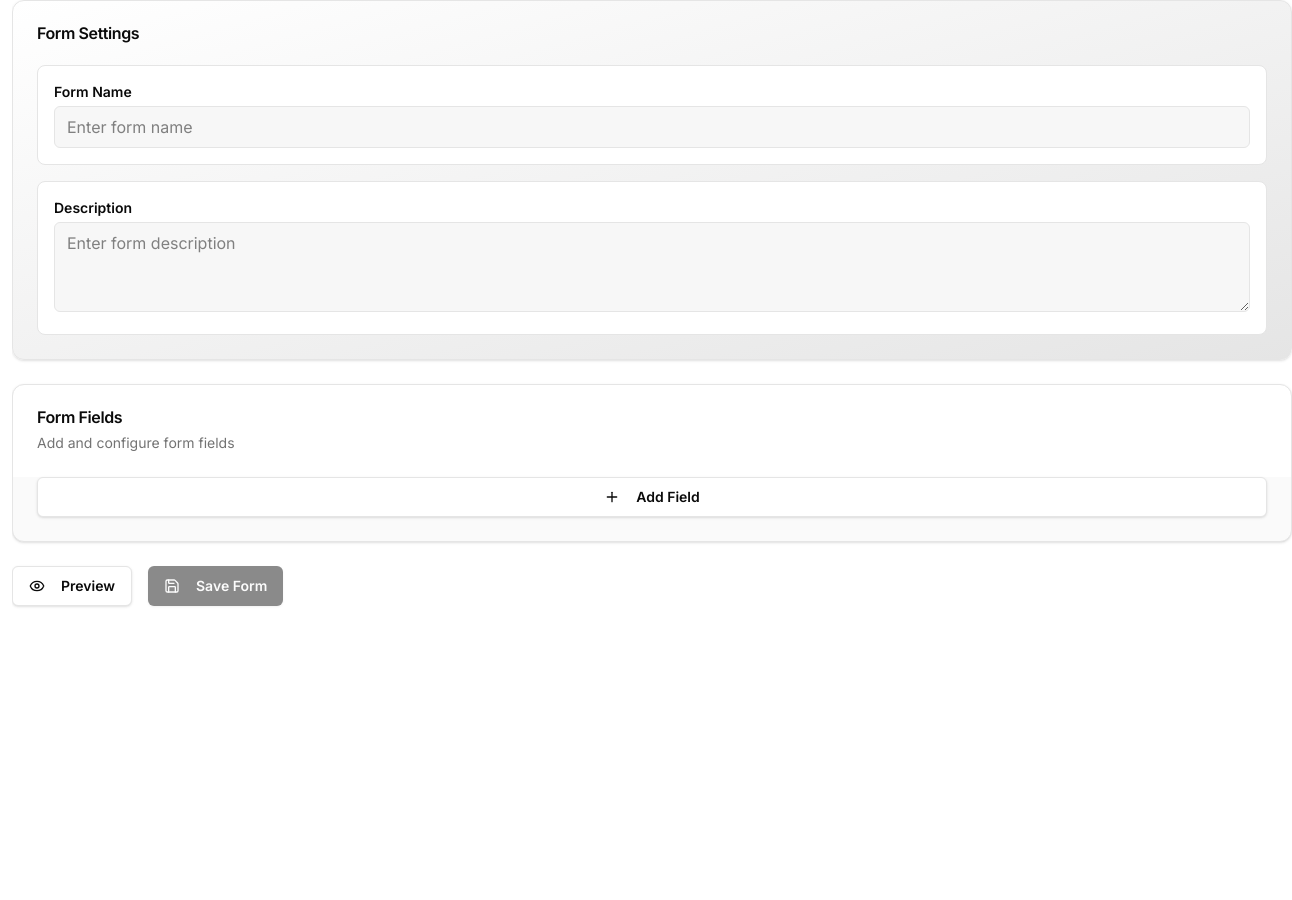
it: FormBuilderUI › Field Management › adds a new field
This screenshot has width=1292, height=900.
Click the button "Add Field": (652, 497) [37,477,1267,517]
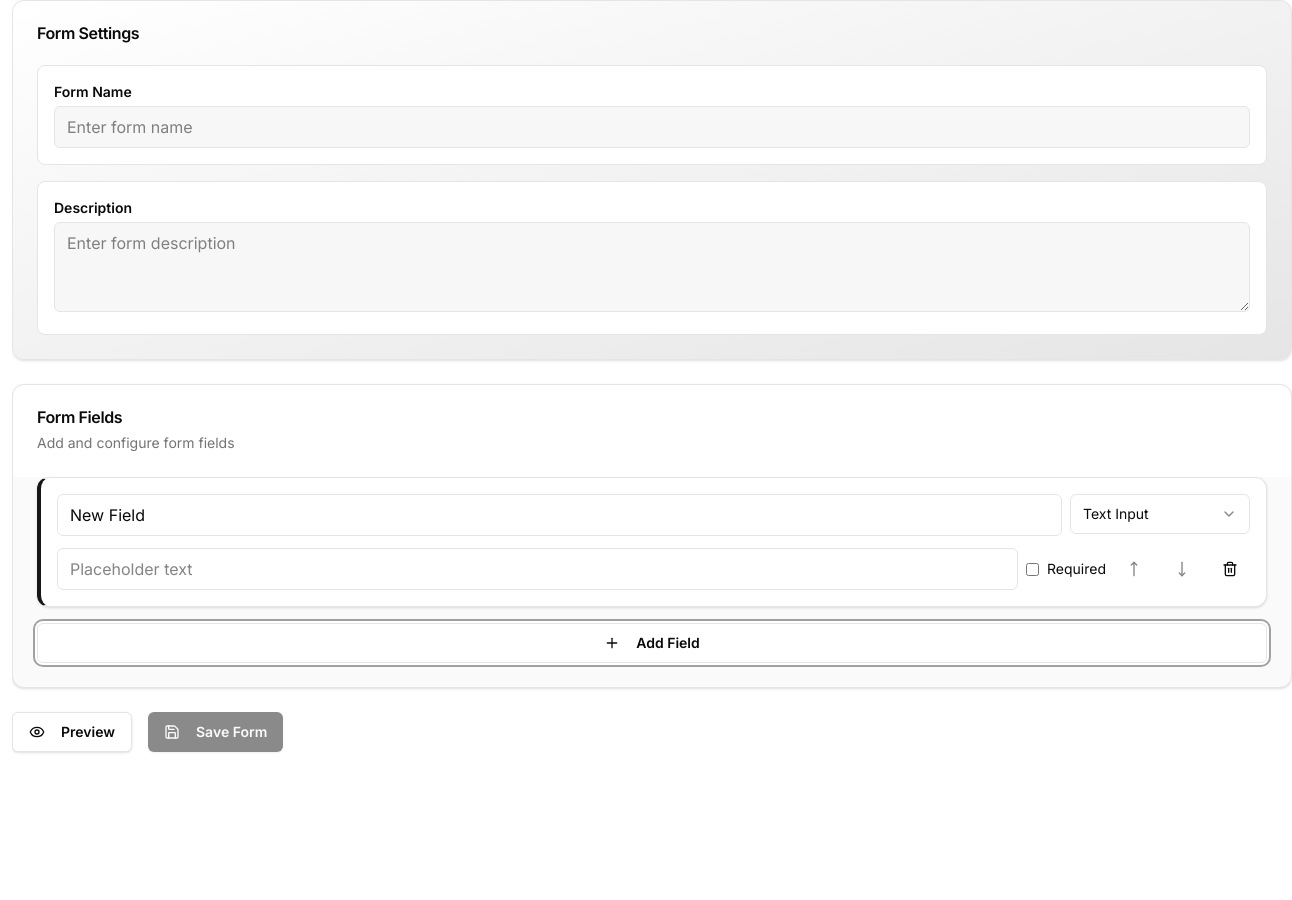
Now the field showing "New Field" is shown, box [57,494,1062,536]
Now the dropdown reads "Text Input", box [1070,494,1250,534]
